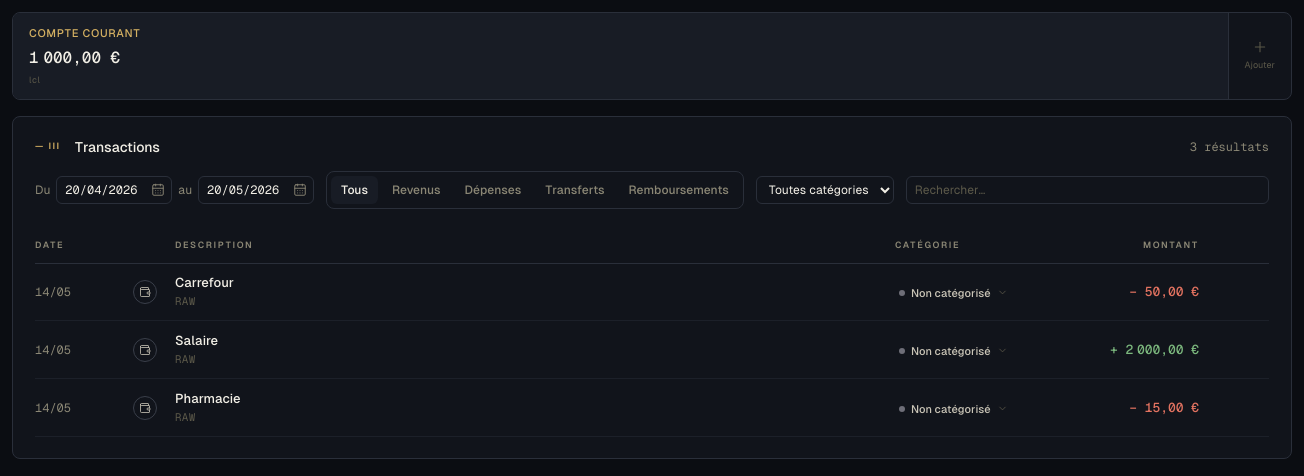
Test: TransactionsPage › filters by category
Expected: the text "Carrefour" is shown, [175,274,234,290]
Select "Alimentation" in the dropdown named "Catégorie" at coordinates (825, 190), box [756,176,894,204]
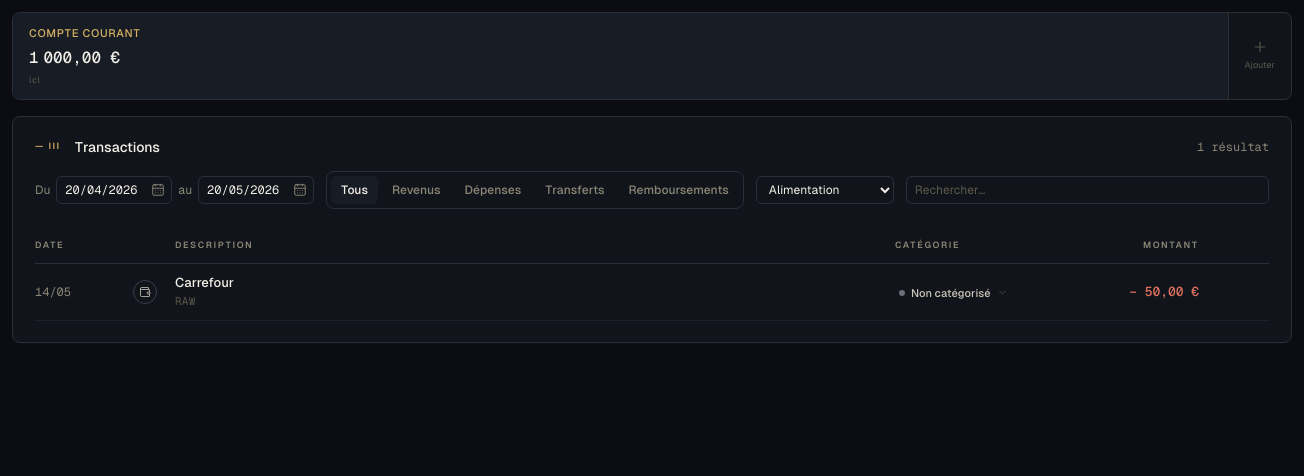
Expected: the text "Carrefour" is shown, [175,274,234,290]
Expected: the text "Salaire" is gone
